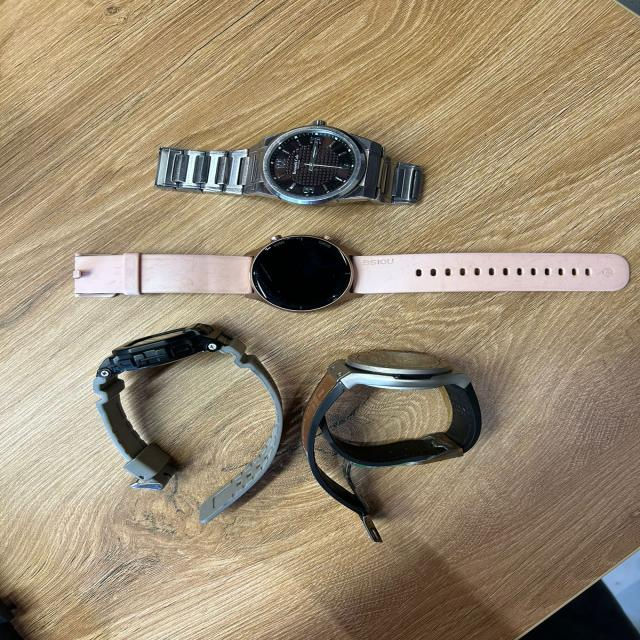watch: (91, 322, 285, 524), (300, 347, 482, 543), (153, 119, 423, 208)
